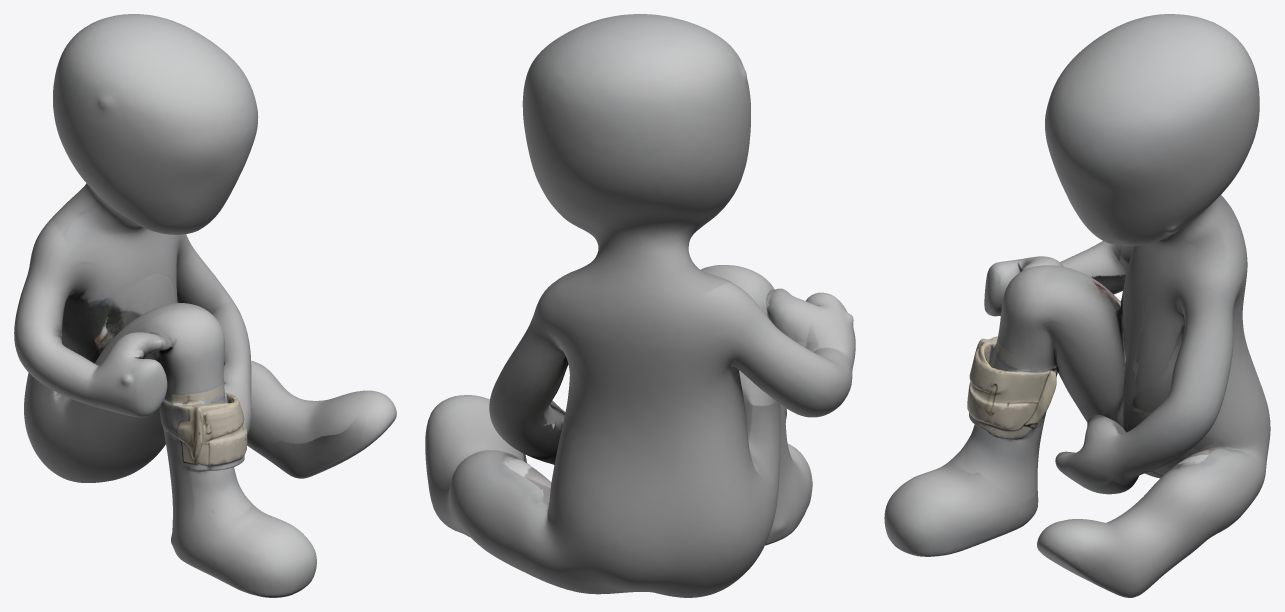
Rendered from leg_sprain.glb.
3 renders of one model, left to right at view 1: azimuth 30°, elevation 25°; view 2: azimuth 150°, elevation 25°; view 3: azimuth 270°, elevation 25°, orthographic. The views are drawn at different scales.
Parts seen in each view (by area): view 1: mvadapter_node_8d42c6bf-7c49-4ff3-b20a-d1922c39e4eb-e1_textu; view 2: mvadapter_node_8d42c6bf-7c49-4ff3-b20a-d1922c39e4eb-e1_textu; view 3: mvadapter_node_8d42c6bf-7c49-4ff3-b20a-d1922c39e4eb-e1_textu.
Boxes of the visible parts, x1=… form: mvadapter_node_8d42c6bf-7c49-4ff3-b20a-d1922c39e4eb-e1_textu: x1=14, y1=14, x2=396, y2=597; mvadapter_node_8d42c6bf-7c49-4ff3-b20a-d1922c39e4eb-e1_textu: x1=425, y1=14, x2=855, y2=597; mvadapter_node_8d42c6bf-7c49-4ff3-b20a-d1922c39e4eb-e1_textu: x1=884, y1=14, x2=1270, y2=597.
Size of the model in its own units: 1.43 by 1.87 by 1.3.
1 material, 1 textured.
